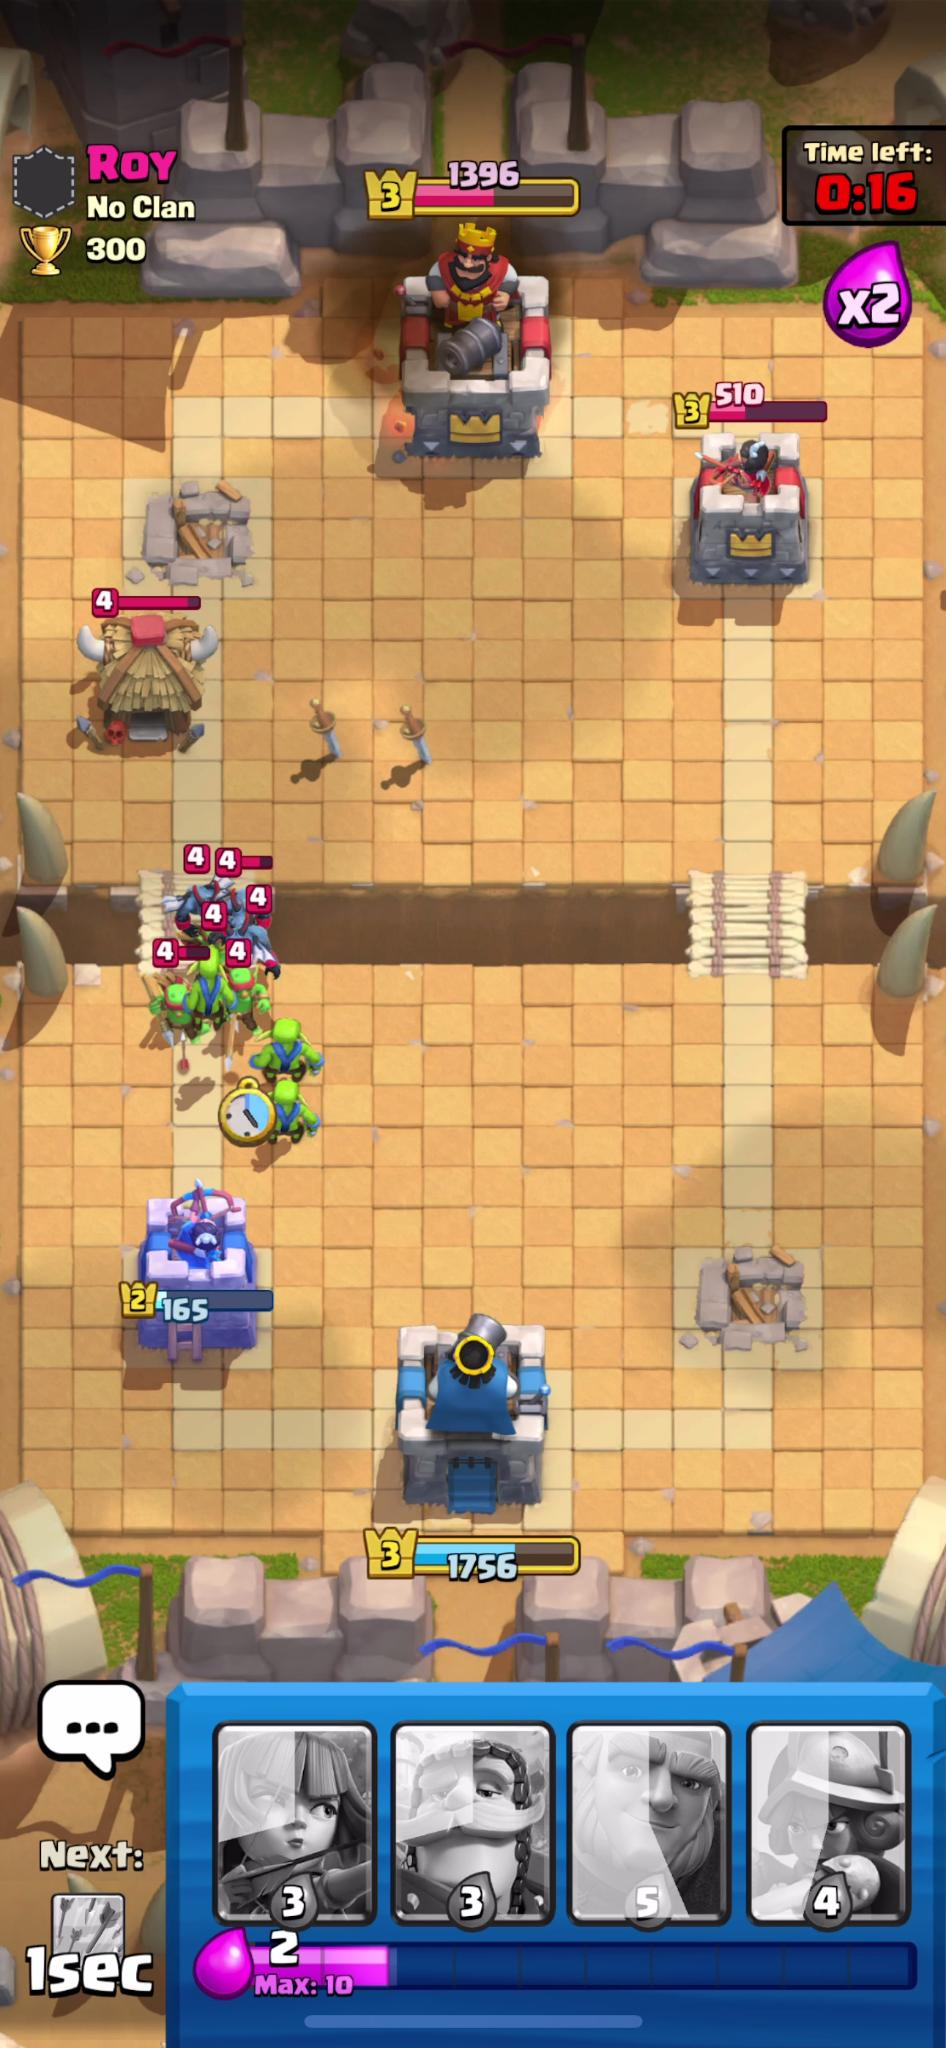gobelin_lances: (107, 886, 372, 1112)
